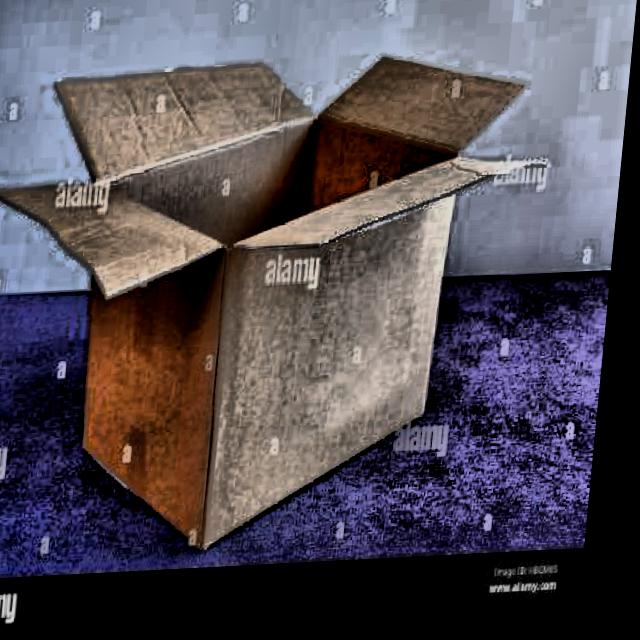Cardbox: (0, 25, 560, 558)
